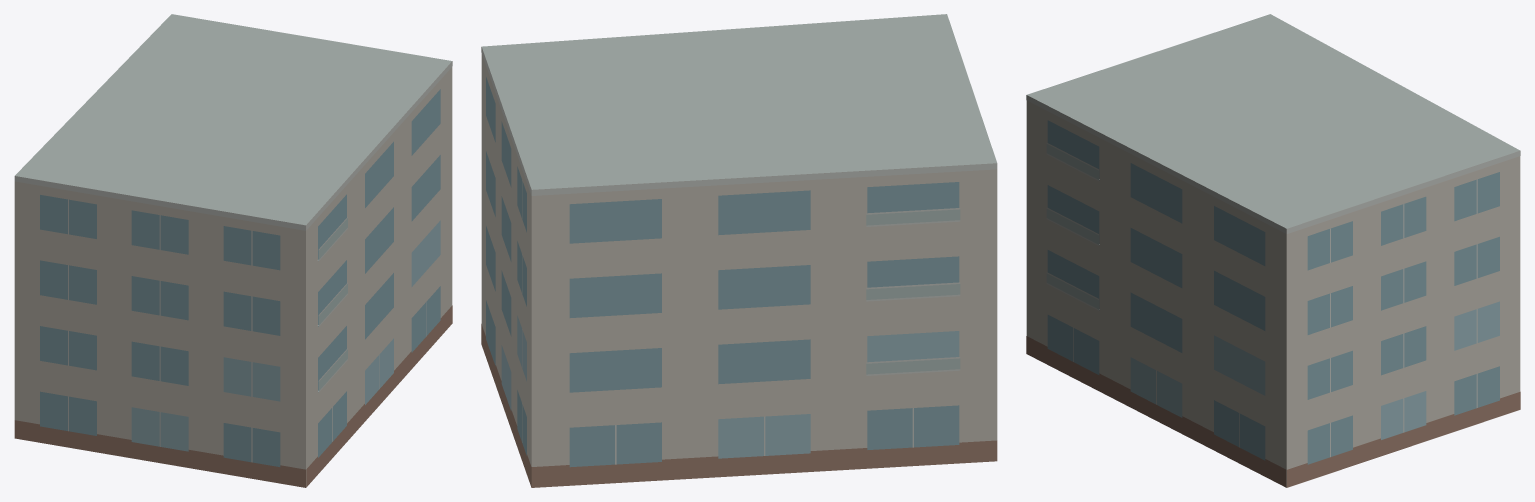
Rendered from survey-upis-32851443.glb.
The picture shows the model from 3 angles, left to right: view 1: azimuth 30°, elevation 25°; view 2: azimuth 150°, elevation 25°; view 3: azimuth 270°, elevation 25°; orthographic projection. The views are drawn at different scales.
Visible parts, largest first — view 1: survey-upis-32851443.tmp; view 2: survey-upis-32851443.tmp; view 3: survey-upis-32851443.tmp.
Boxes of the visible parts, <box> form: survey-upis-32851443.tmp: <box>14,14,452,487</box>; survey-upis-32851443.tmp: <box>481,14,997,487</box>; survey-upis-32851443.tmp: <box>1026,14,1520,487</box>.
Size of the model in its own units: 20.81 by 11.7 by 20.22.
